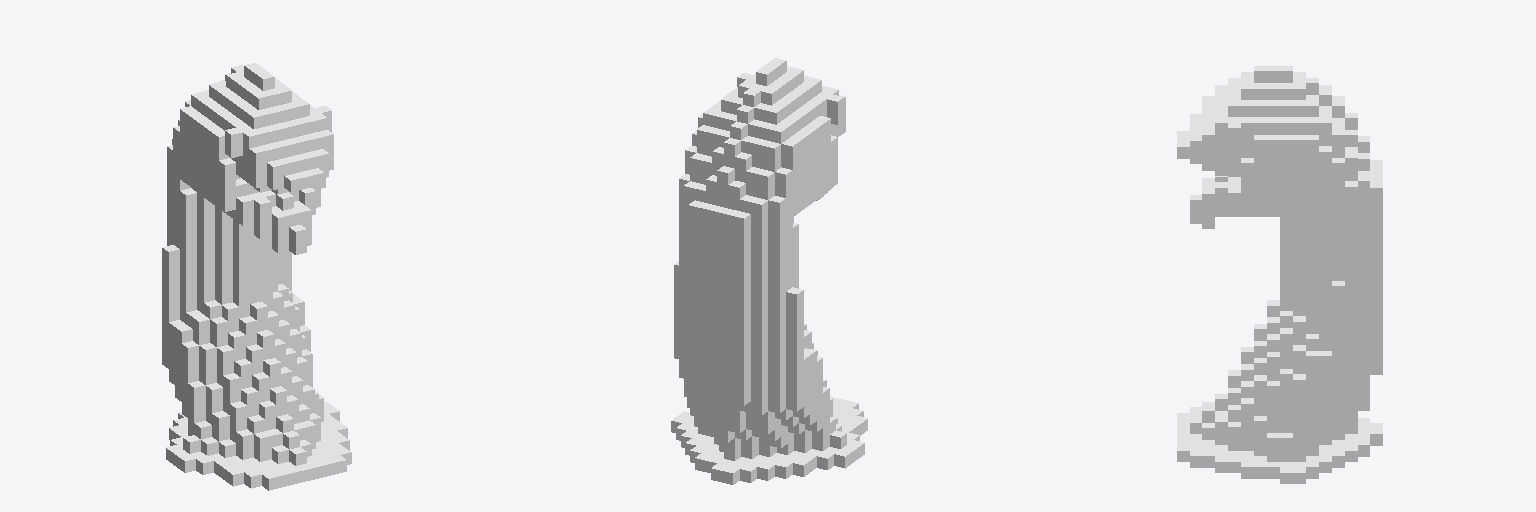
Rendered from Basilisk.obj.
The picture shows the model from 3 angles: view 1: azimuth 30°, elevation 25°; view 2: azimuth 150°, elevation 25°; view 3: azimuth 270°, elevation 25°; orthographic projection.
Parts seen in each view (by area): view 1: object 1; view 2: object 1; view 3: object 1.
Part boxes in pixels (bbox=[...]): object 1: bbox=[162, 63, 351, 490]; object 1: bbox=[671, 58, 867, 484]; object 1: bbox=[1177, 66, 1382, 483].
Size of the model in its own units: 1.5 by 3.2 by 1.6.